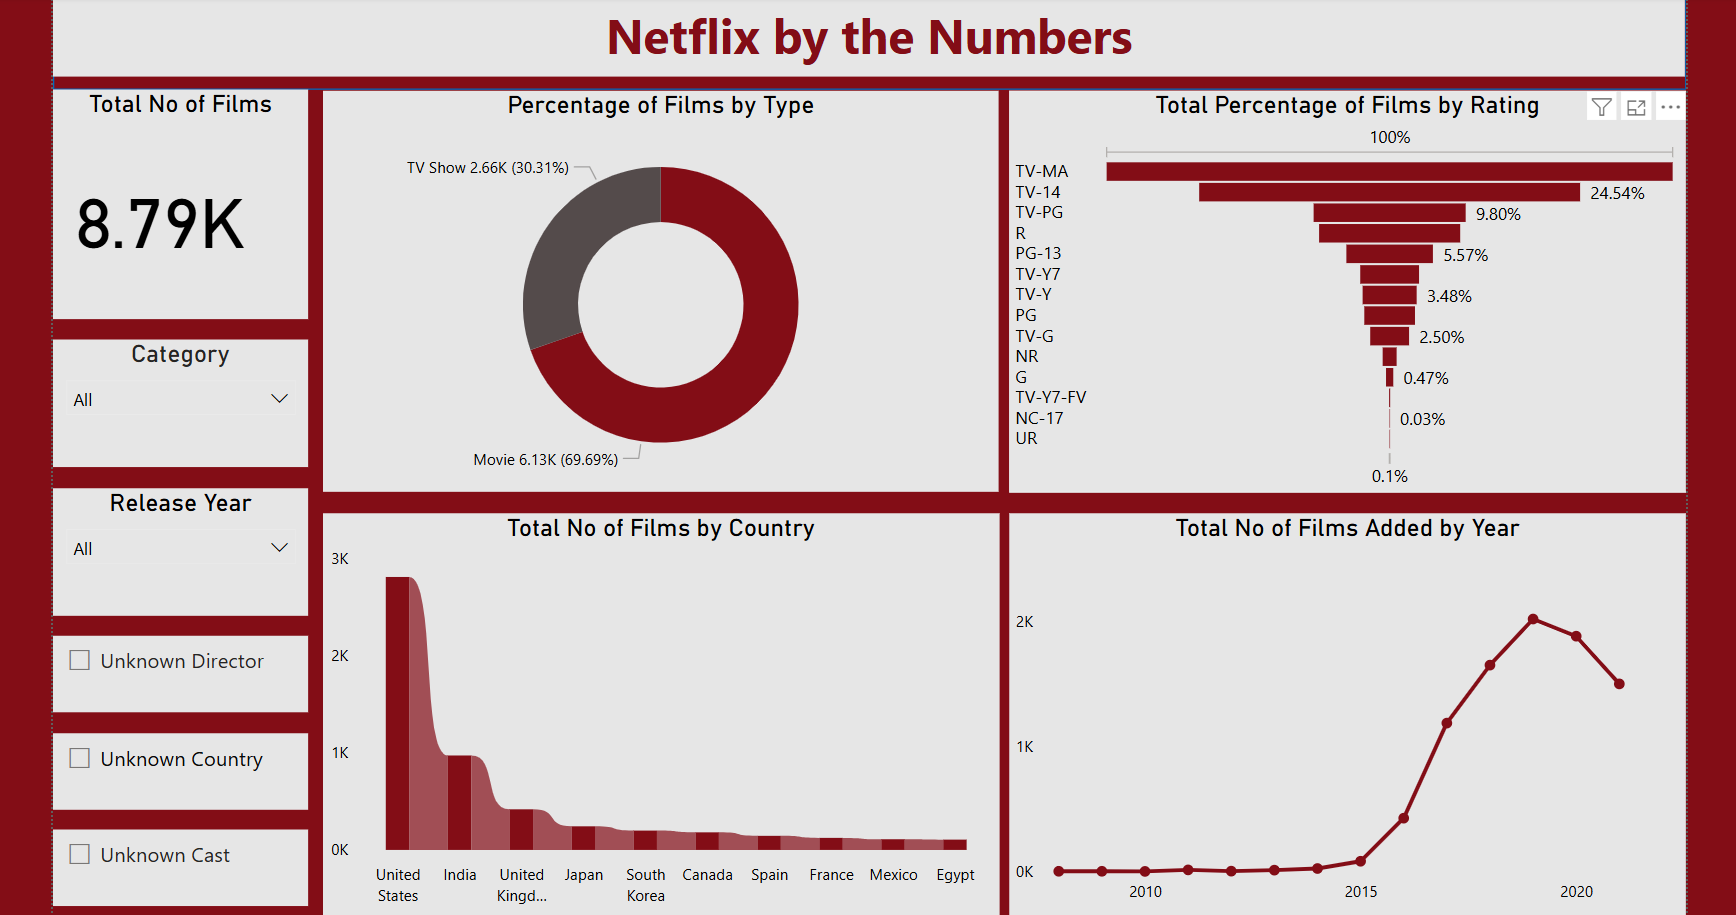

This screenshot's page, from the dashboard's own definition file:
{"tool":"powerbi","page":{"name":"Page 1","canvas":[1280,720],"ordinal":0},"visuals":[{"type":"shape","box":[0,0,1280.3,72.7],"z":0},{"type":"donutChart","title":"Percentage of Films by Type","fields":{"Y":["CountNonNull(netflix_titles.title)"],"Category":["netflix_titles.type"]},"box":[211.3,73.3,529.9,314.4],"z":1000},{"type":"textbox","box":[0,0,1279.6,62],"z":2000},{"type":"lineChart","title":"Total No of Films Added by Year","fields":{"Category":["netflix_titles.Year Added"],"Y":["CountNonNull(netflix_titles.title)"]},"box":[750,404.7,530.2,315.1],"z":3000},{"type":"ribbonChart","title":"Total No of Films by Country","fields":{"Category":["netflix_titles.country"],"Y":["CountNonNull(netflix_titles.title)"]},"box":[211.6,404.7,530.2,315.1],"z":4000},{"type":"funnel","title":"Total Percentage of Films by Rating","fields":{"Category":["netflix_titles.rating"],"Y":["CountNonNull(netflix_titles.title)"]},"box":[750,73.3,530.2,315.1],"z":5000},{"type":"cardVisual","title":"Total No of Films","fields":{"Data":["netflix_titles.Total No of Films"]},"box":[0,72.9,200,180],"z":6000},{"type":"slicer","title":"Category","fields":{"Values":["netflix_titles.listed_in"]},"box":[0,268.9,200,100],"z":7000},{"type":"slicer","fields":{"Values":["netflix_titles.director"]},"box":[0,500.9,200,60],"z":8000},{"type":"slicer","fields":{"Values":["netflix_titles.cast"]},"box":[0,652.9,200,60],"z":9000},{"type":"slicer","fields":{"Values":["netflix_titles.country"]},"box":[0,576.9,200,60],"z":10000},{"type":"slicer","title":"Release Year","fields":{"Values":["netflix_titles.release_year"]},"box":[0,384.9,200,100],"z":11000}]}

Visuals, with their boxes in screenshot pixels (x1, y1, x2, y2):
shape: select_region(41, 0, 1701, 81)
"Percentage of Films by Type" donutChart: select_region(315, 81, 1002, 489)
textbox: select_region(41, 0, 1700, 67)
"Total No of Films Added by Year" lineChart: select_region(1013, 511, 1701, 914)
"Total No of Films by Country" ribbonChart: select_region(315, 511, 1003, 914)
"Total Percentage of Films by Rating" funnel: select_region(1013, 81, 1701, 490)
"Total No of Films" cardVisual: select_region(41, 81, 300, 314)
"Category" slicer: select_region(41, 335, 300, 465)
slicer - netflix_titles.director: select_region(41, 636, 300, 714)
slicer - netflix_titles.cast: select_region(41, 833, 300, 911)
slicer - netflix_titles.country: select_region(41, 735, 300, 812)
"Release Year" slicer: select_region(41, 486, 300, 615)
